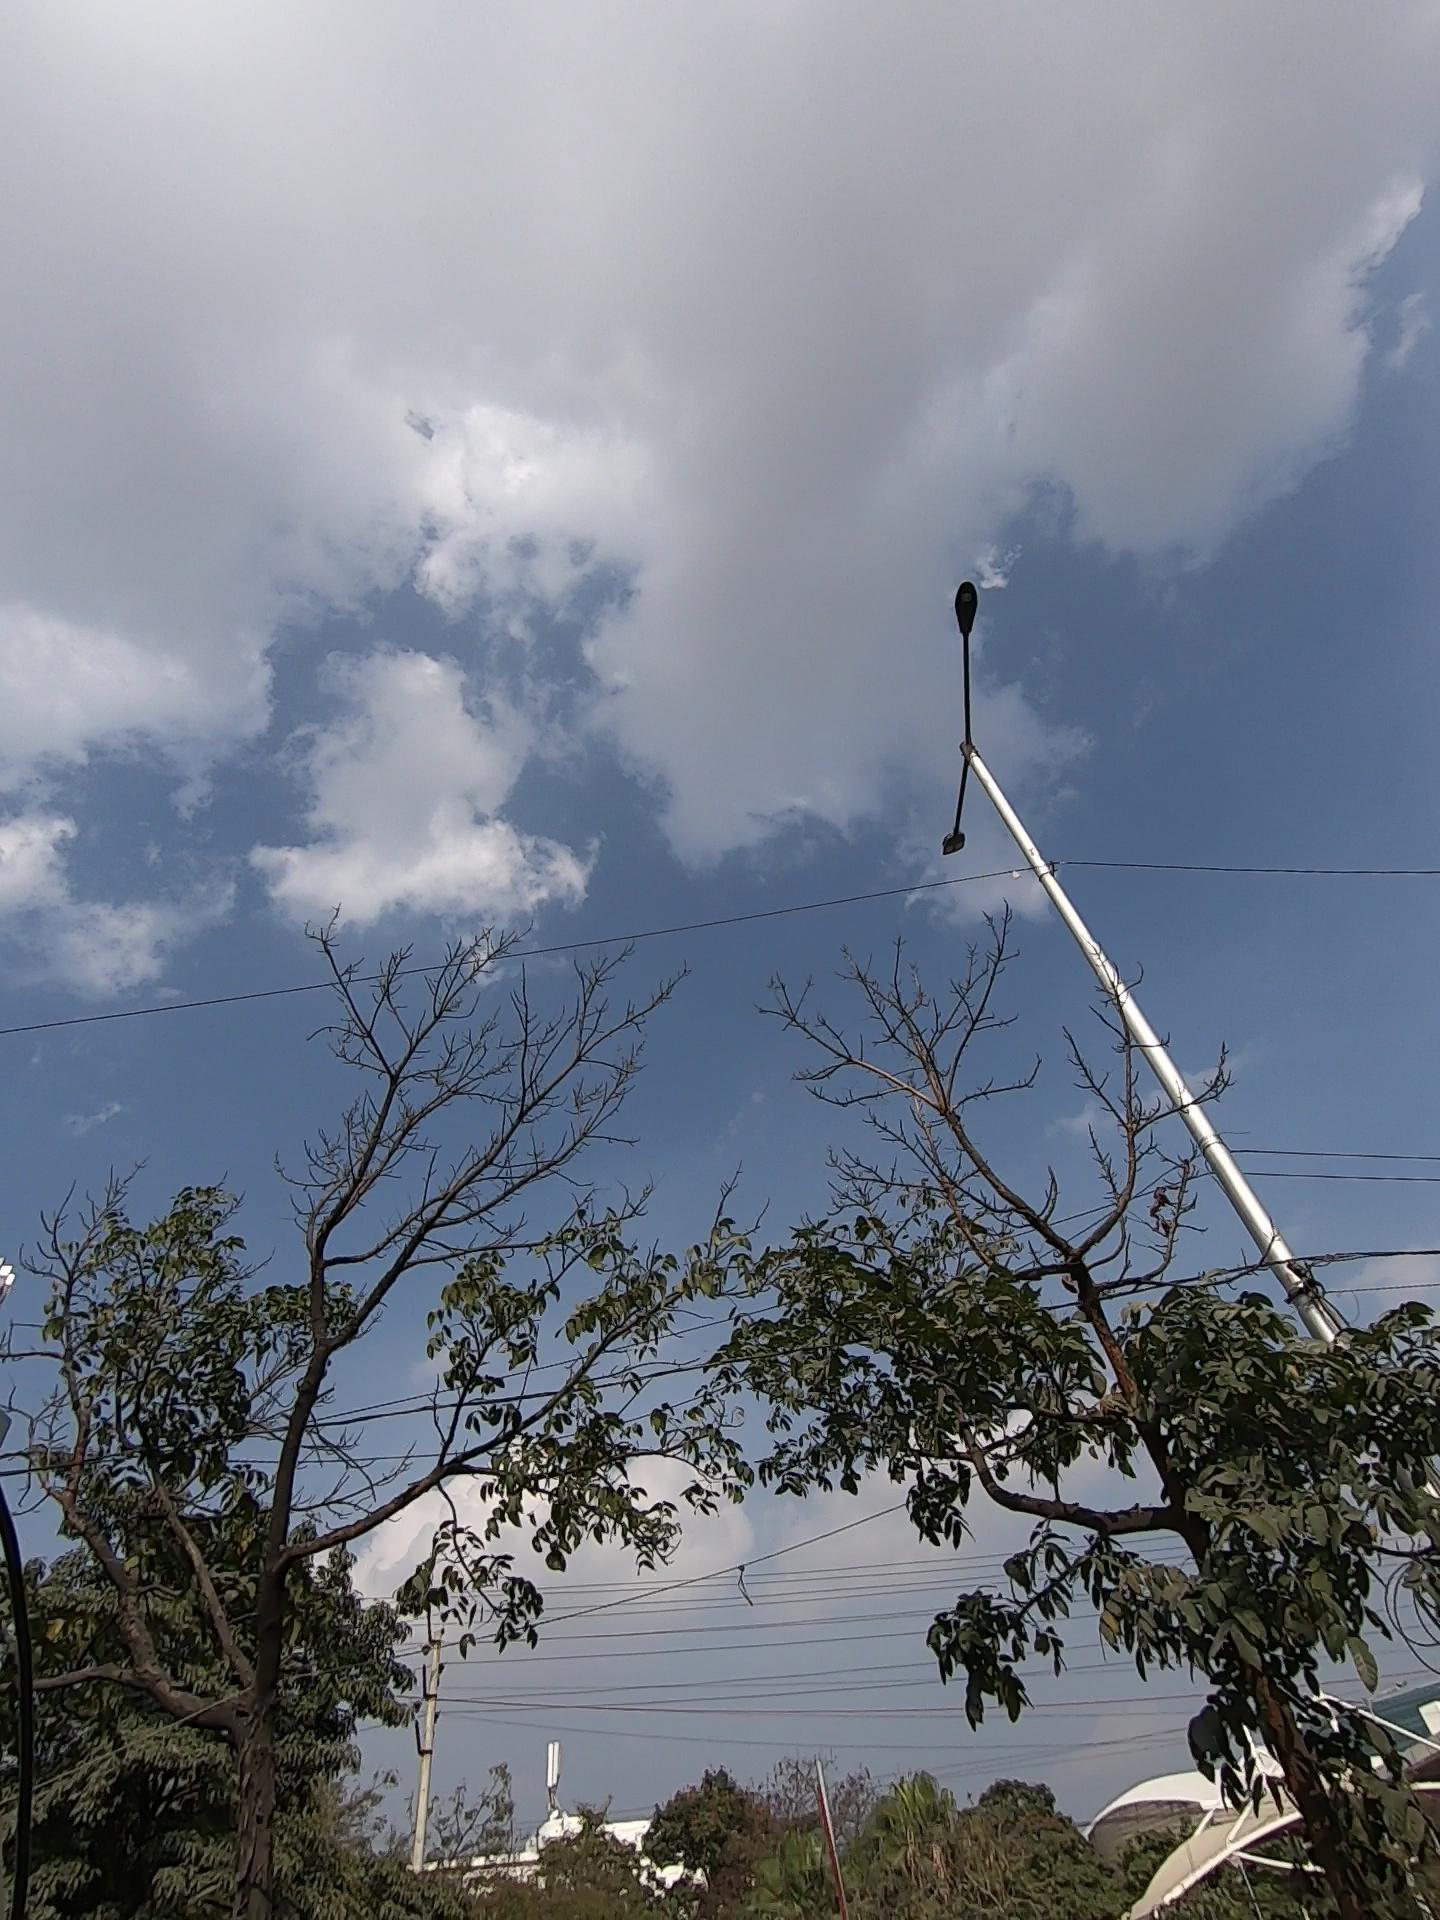off: (900, 526, 1015, 904)
